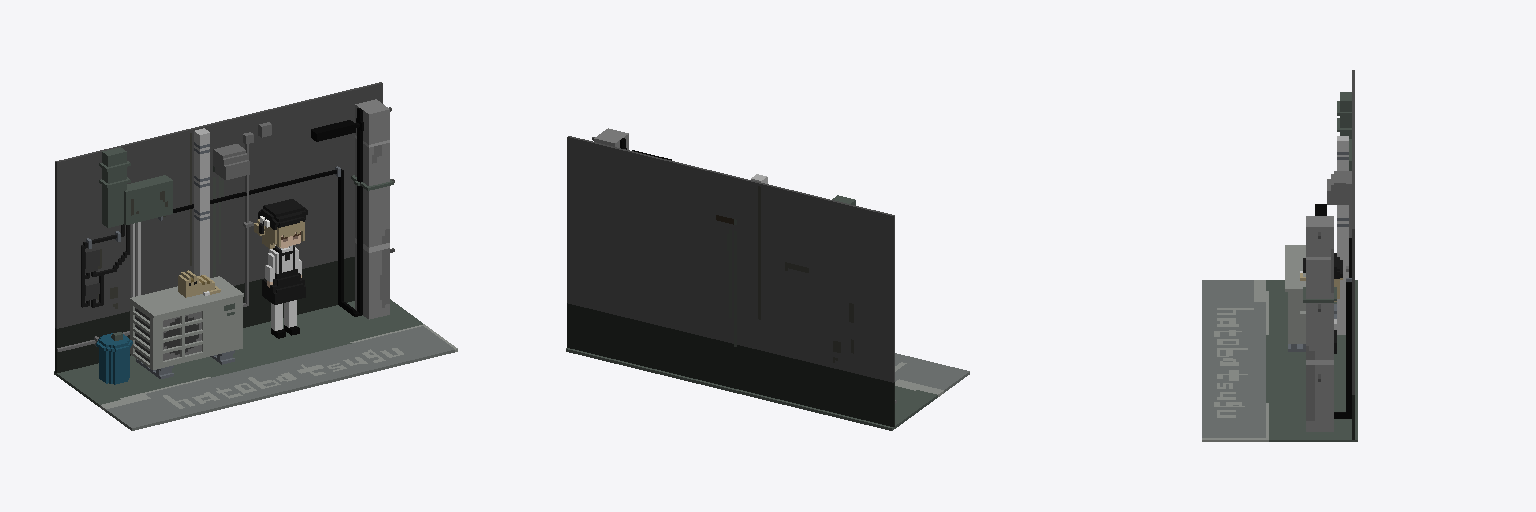
3 views of the same model, side by side, from view 1: azimuth 30°, elevation 25°; view 2: azimuth 150°, elevation 25°; view 3: azimuth 270°, elevation 25° (orthographic).
Parts seen in each view (by area): view 1: object 1; view 2: object 1; view 3: object 1.
Boxes of the visible parts, x1=… form: object 1: x1=54, y1=82, x2=457, y2=430; object 1: x1=566, y1=128, x2=969, y2=430; object 1: x1=1202, y1=70, x2=1357, y2=441.
Size of the model in its own units: 12.3 by 7.7 by 5.1.
Materials: 1 (1 with a texture image).